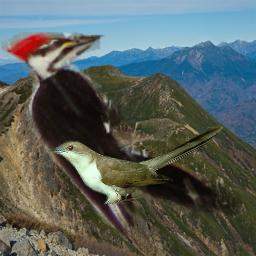Cuckoo: (48, 124, 223, 204)
Woodpecker: (1, 32, 242, 241)
